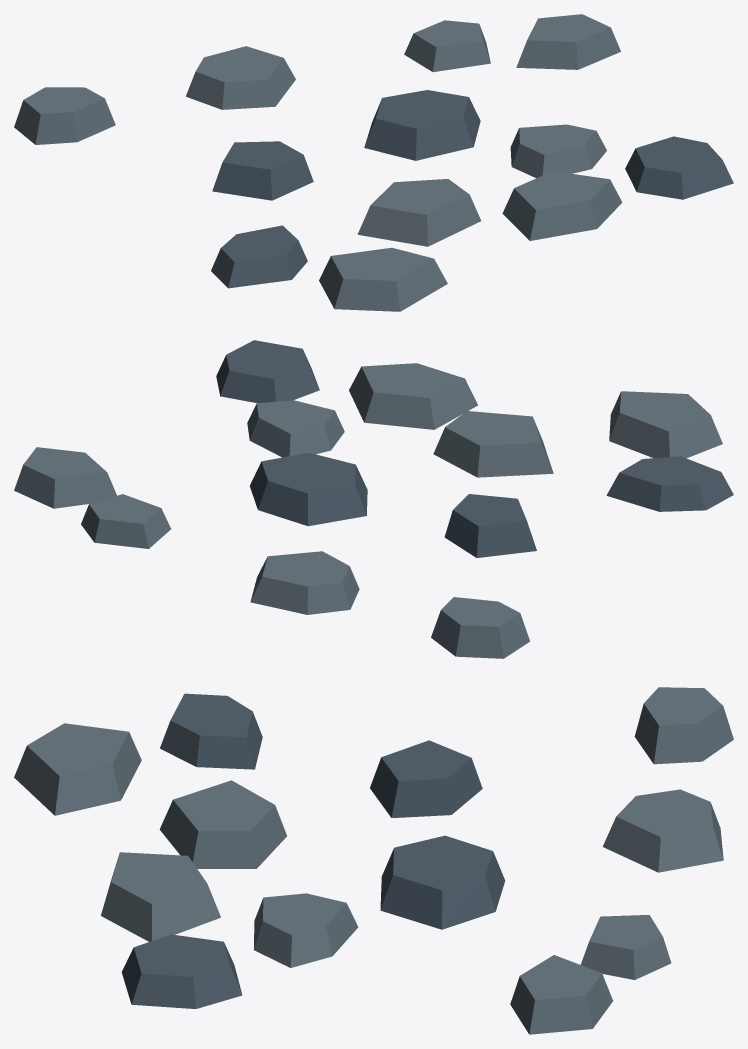
File: plant_bryolux_a.obj
3 views of the same model, one above another, from view 1: azimuth 30°, elevation 25°; view 2: azimuth 150°, elevation 25°; view 3: azimuth 270°, elevation 25° (orthographic). The views are drawn at different scales.
Parts seen in each view (by area): view 1: plant_bryolux_a_9, plant_bryolux_a_1, plant_bryolux_a_2, plant_bryolux_a_7, plant_bryolux_a_5, plant_bryolux_a_6, plant_bryolux_a_4, plant_bryolux_a_3, plant_bryolux_a_0, plant_bryolux_a_10, plant_bryolux_a_8, plant_bryolux_a_11; view 2: plant_bryolux_a_9, plant_bryolux_a_7, plant_bryolux_a_2, plant_bryolux_a_1, plant_bryolux_a_5, plant_bryolux_a_0, plant_bryolux_a_6, plant_bryolux_a_4, plant_bryolux_a_10, plant_bryolux_a_3, plant_bryolux_a_8, plant_bryolux_a_11; view 3: plant_bryolux_a_9, plant_bryolux_a_1, plant_bryolux_a_2, plant_bryolux_a_7, plant_bryolux_a_5, plant_bryolux_a_6, plant_bryolux_a_3, plant_bryolux_a_0, plant_bryolux_a_4, plant_bryolux_a_8, plant_bryolux_a_10, plant_bryolux_a_11.
Part boxes in pixels (x1,y1,x2,y2): plant_bryolux_a_9: (364,90,480,160); plant_bryolux_a_1: (319,247,447,311); plant_bryolux_a_2: (357,179,481,246); plant_bryolux_a_7: (502,171,622,240); plant_bryolux_a_5: (186,46,295,109); plant_bryolux_a_6: (625,136,733,199); plant_bryolux_a_4: (14,87,115,144); plant_bryolux_a_3: (212,141,313,200); plant_bryolux_a_0: (211,225,307,288); plant_bryolux_a_10: (516,14,620,69); plant_bryolux_a_8: (510,124,606,178); plant_bryolux_a_11: (404,20,490,71); plant_bryolux_a_9: (250,452,367,526); plant_bryolux_a_7: (349,363,477,429); plant_bryolux_a_2: (433,411,553,477); plant_bryolux_a_1: (609,391,722,458); plant_bryolux_a_5: (250,551,359,614); plant_bryolux_a_0: (606,456,733,511); plant_bryolux_a_6: (216,340,319,403); plant_bryolux_a_4: (431,597,529,658); plant_bryolux_a_10: (14,447,116,508); plant_bryolux_a_3: (444,494,536,557); plant_bryolux_a_8: (247,400,344,457); plant_bryolux_a_11: (81,494,170,548); plant_bryolux_a_9: (380,835,505,929); plant_bryolux_a_1: (14,723,141,815); plant_bryolux_a_2: (159,780,286,868); plant_bryolux_a_7: (101,852,220,941); plant_bryolux_a_5: (602,789,723,872); plant_bryolux_a_6: (121,934,242,1008); plant_bryolux_a_3: (370,740,482,817); plant_bryolux_a_0: (160,693,262,769); plant_bryolux_a_4: (634,687,733,764); plant_bryolux_a_8: (253,893,358,967); plant_bryolux_a_10: (510,955,612,1034); plant_bryolux_a_11: (580,915,671,979).
Bounding box in the file's own units: 0.9558 × 0.0467 × 0.9094.
